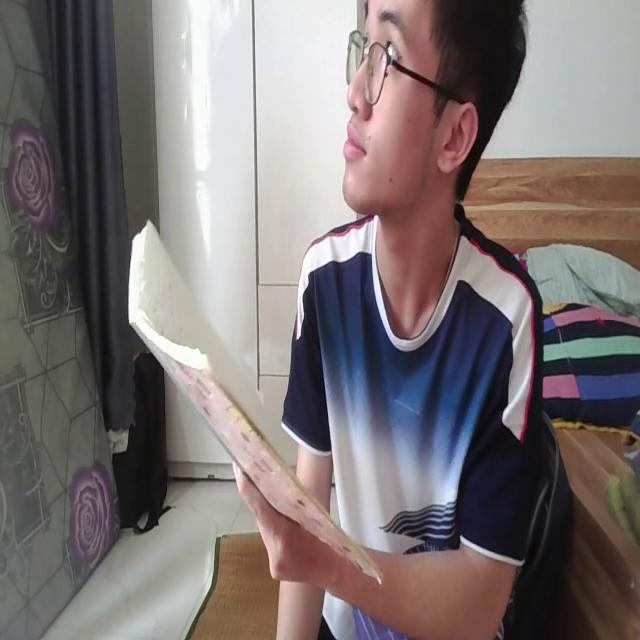book: (121, 220, 389, 598)
student: (267, 0, 541, 640)
